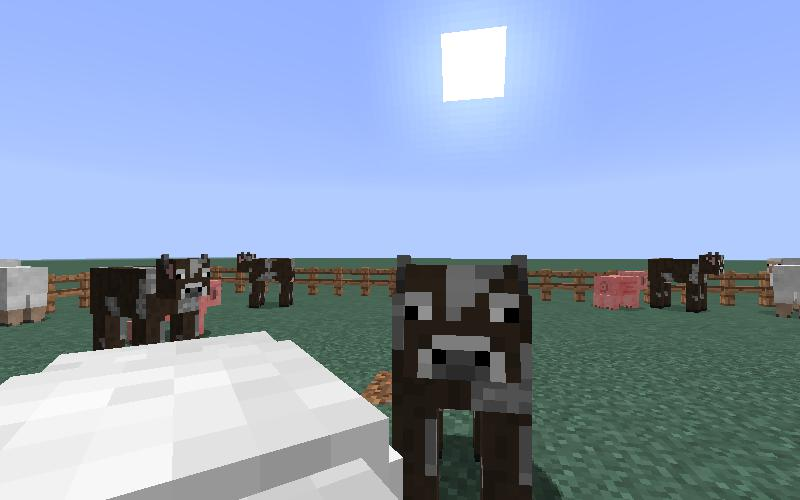cow: (386, 251, 538, 500), (83, 253, 207, 361), (646, 247, 725, 321), (230, 247, 305, 314)
pig: (591, 267, 649, 316)
sheep: (1, 258, 48, 326)
